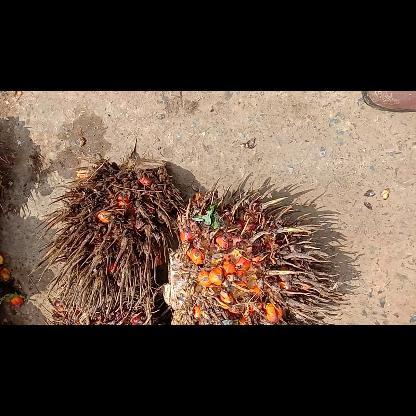Terlalu masak: (160, 174, 352, 324), (25, 152, 191, 312)
